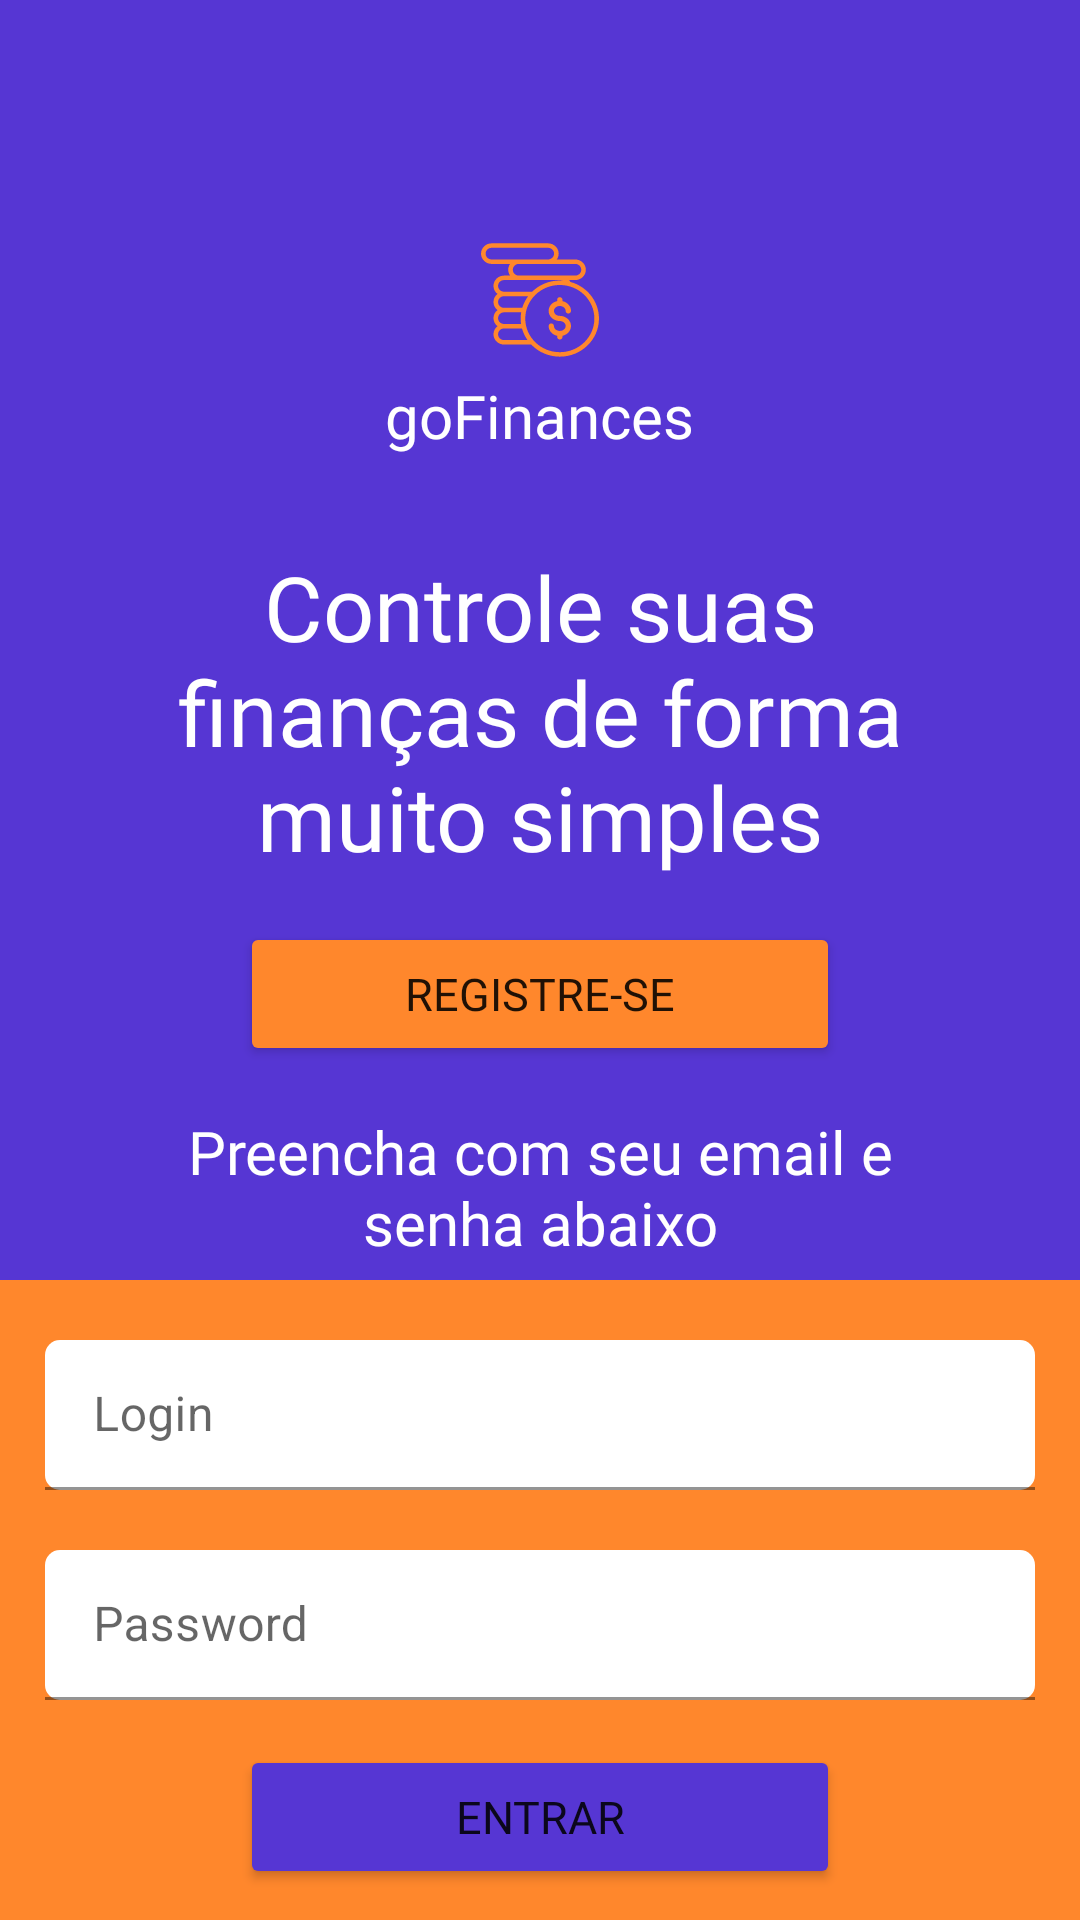

Point at icon controls on the screen. Image size 1080px×1920px, points as [x,y].
coin: [540,300]
